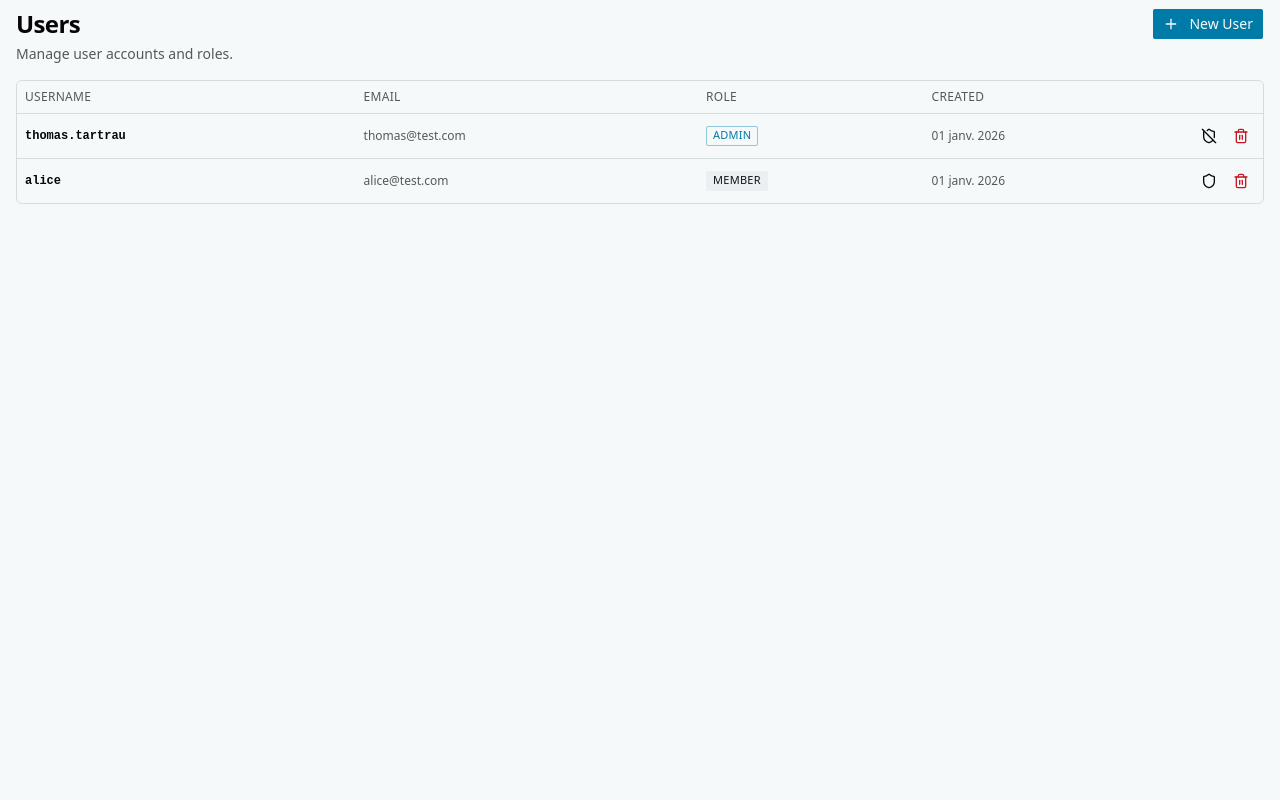
Test case: User delete confirmation › does not require username input when deleting another user
Click the button named "delete user" at (1241, 180), box [1227,166,1255,194]
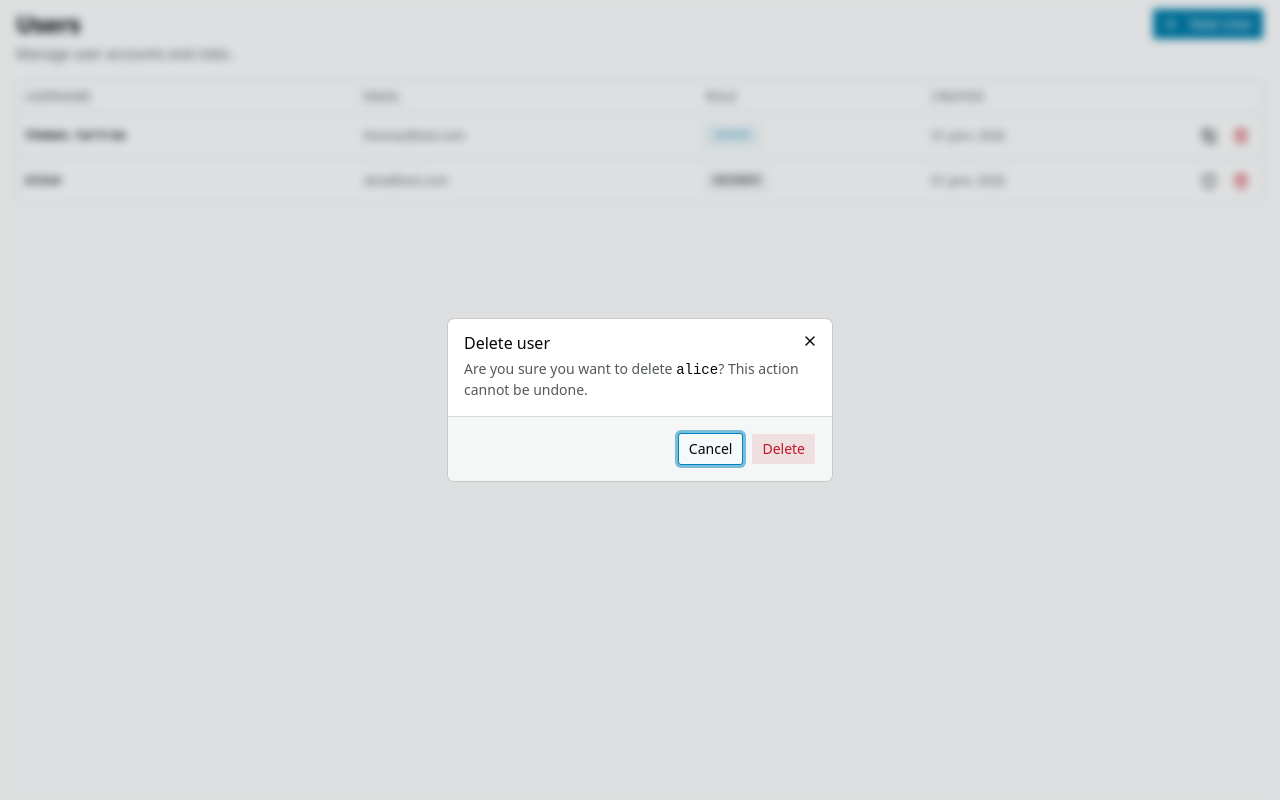
Expected: the button "Delete" is enabled, [751,433,816,465]
